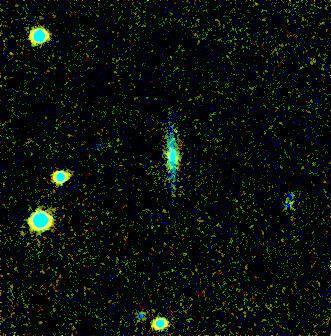star: (161, 117, 191, 147)
